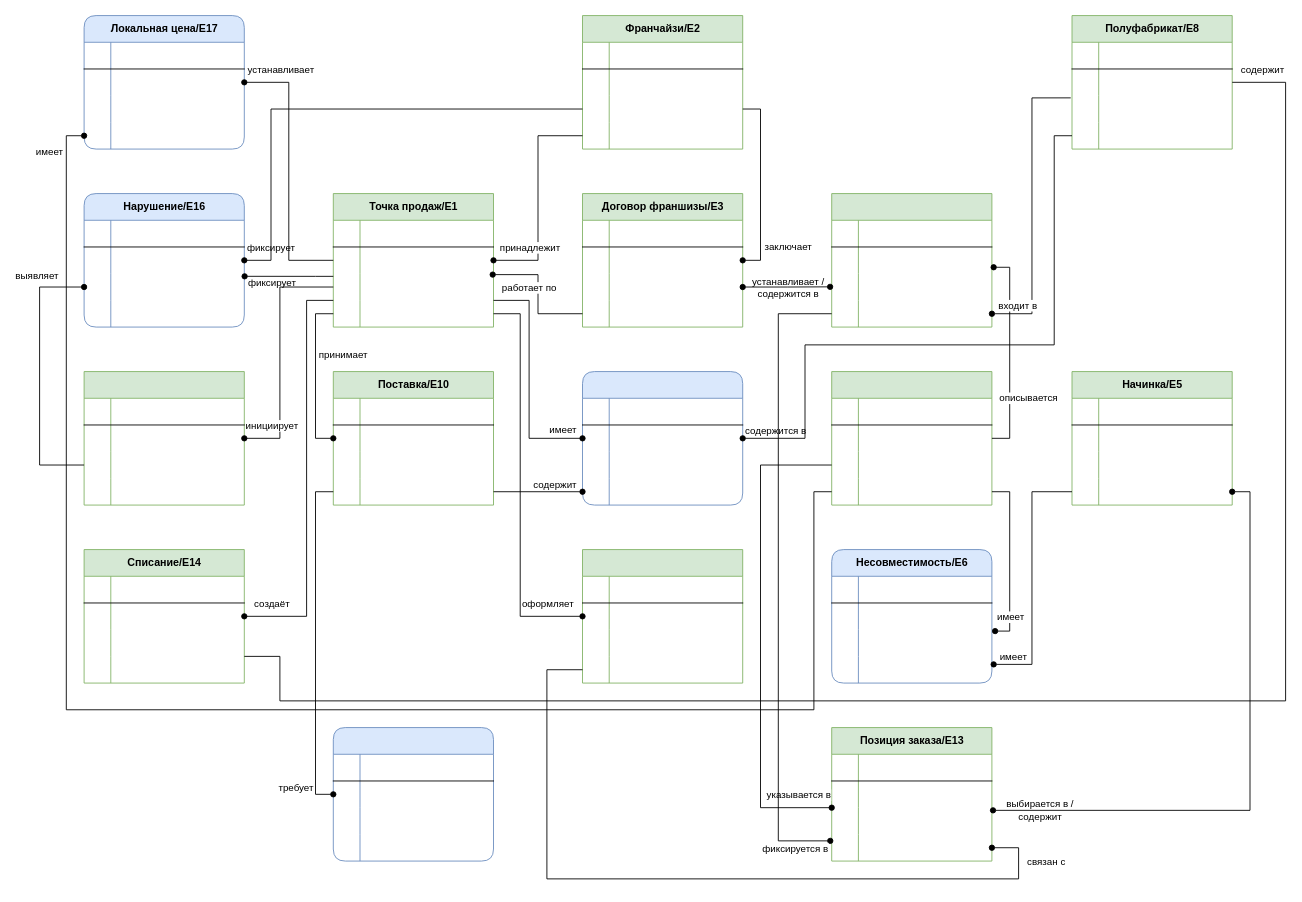
Some shapes in this 1302 by 902 pixel diagram are drawn without their labels. Each missing label, with the box of its shape:
Акт расхождения/E11: (332, 727, 494, 861)
Базовое изделие/E4: (831, 371, 992, 505)
Заказ/E12: (582, 549, 743, 683)
Партия полуфабриката/E9: (582, 371, 743, 505)
Проверка качества/E15: (83, 371, 244, 505)
Рецептура/E7: (831, 193, 992, 327)
